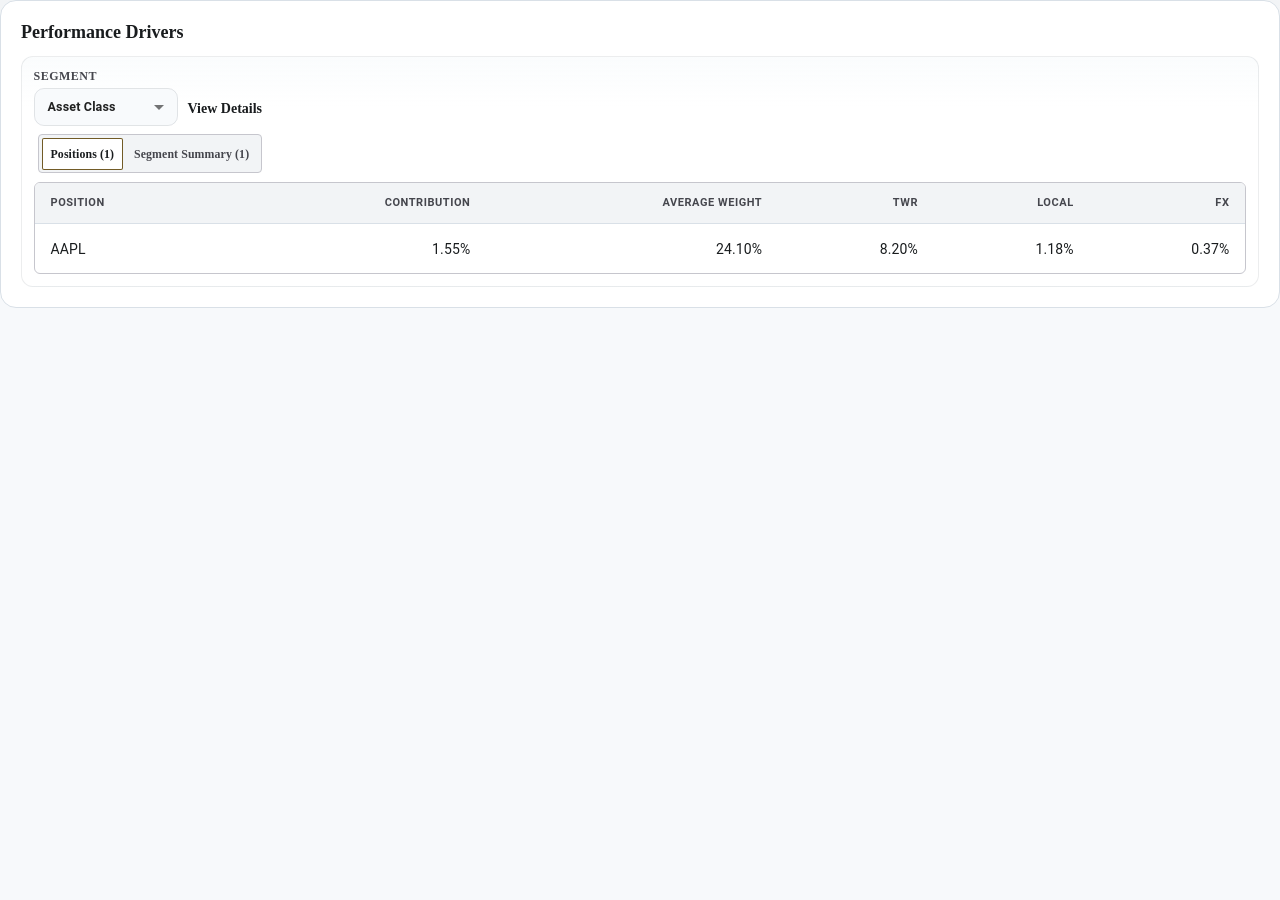
Scenario: PerformanceAnalysisContributionSection › moves contribution methodology and coverage into the details drawer
The width and height of the screenshot is (1280, 900).
Click the button with aria-label "Performance Drivers methodology and coverage". click: (225, 110)
box: x1=188 y1=95 x2=262 y2=126
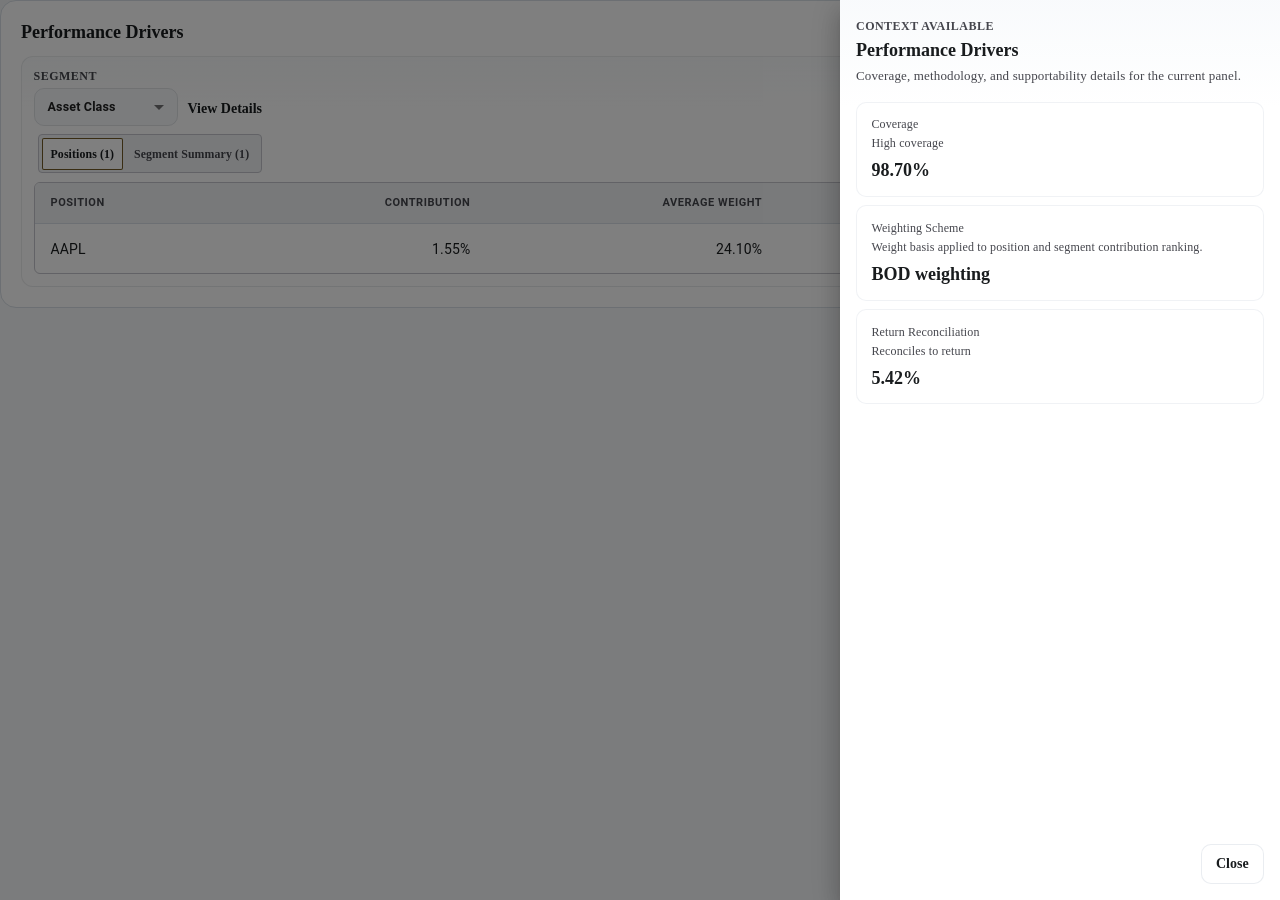
expect the dialog named "Performance Drivers methodology and coverage" shows "Coverage": met, box x1=871 y1=117 x2=918 y2=131
expect the dialog named "Performance Drivers methodology and coverage" shows "Weighting Scheme": met, box x1=871 y1=221 x2=964 y2=235
expect the dialog named "Performance Drivers methodology and coverage" shows "BOD weighting": met, box x1=871 y1=264 x2=990 y2=284
